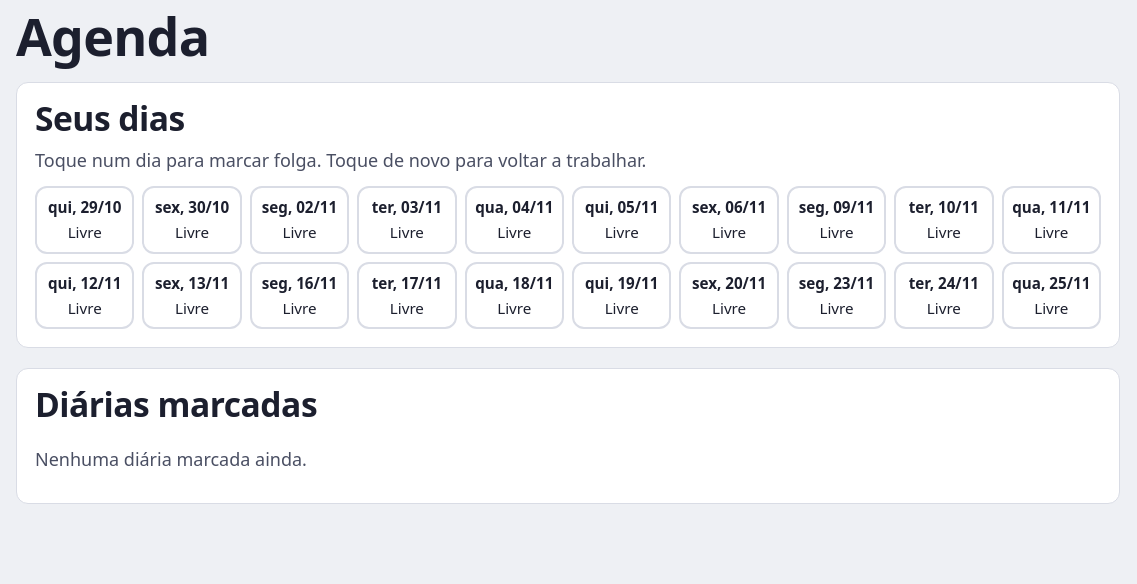
Área do profissional (FE-06) › Agenda: folga recusada mostra o erro da API
Click the button with aria-label ": Livre" at (85, 220), box [35,186,134,254]
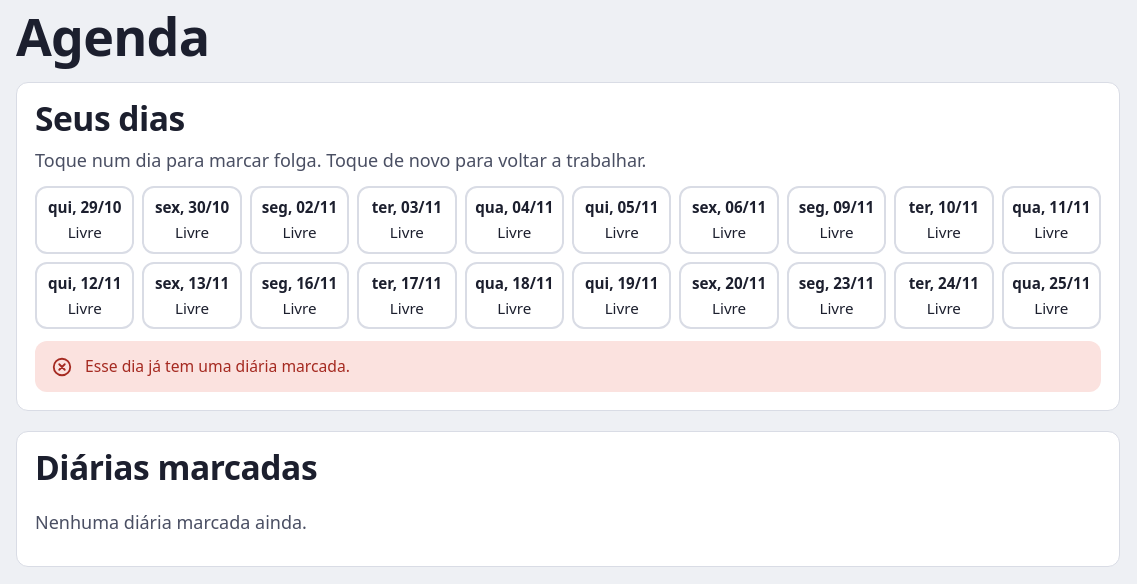
Check: the text "Esse dia já tem uma diária marcada." is shown, box [85,356,350,378]
